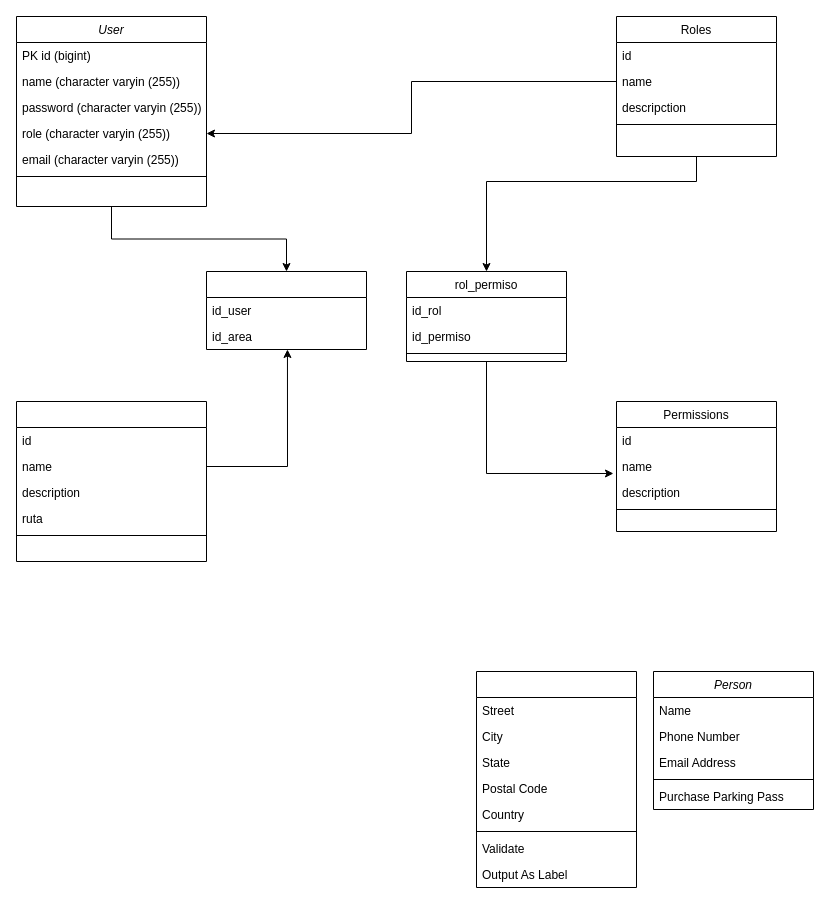
The diagram is 830 pixels wide and 904 high, and some of its shapes have lost their labels. The box of each missing label's shape, as (x1, y1, x2, y2) in pixels:
Address: (476, 670, 636, 888)
Areas: (16, 400, 206, 562)
user_area: (206, 270, 366, 350)
